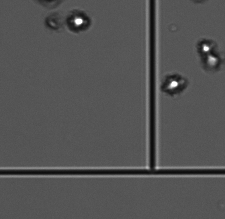Dead Cell: (45, 13, 62, 31)
Living Cell: (68, 10, 89, 32), (162, 75, 185, 93), (201, 53, 221, 70), (198, 40, 216, 53)
